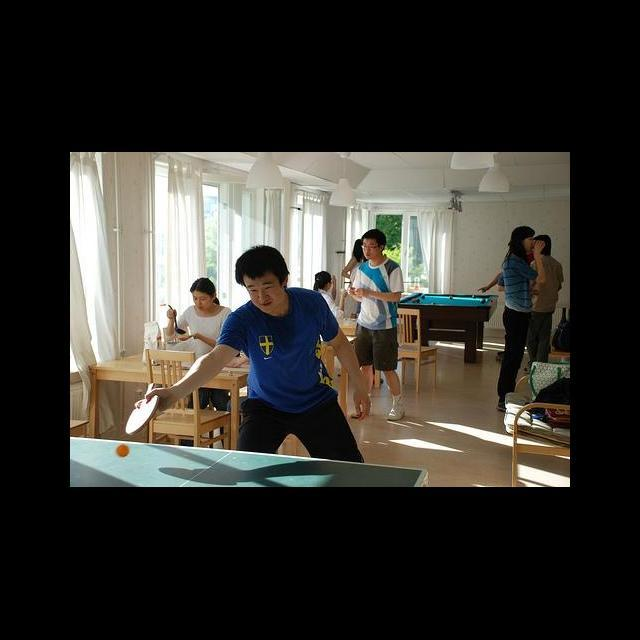ping-pong-ball: (116, 444, 130, 458)
